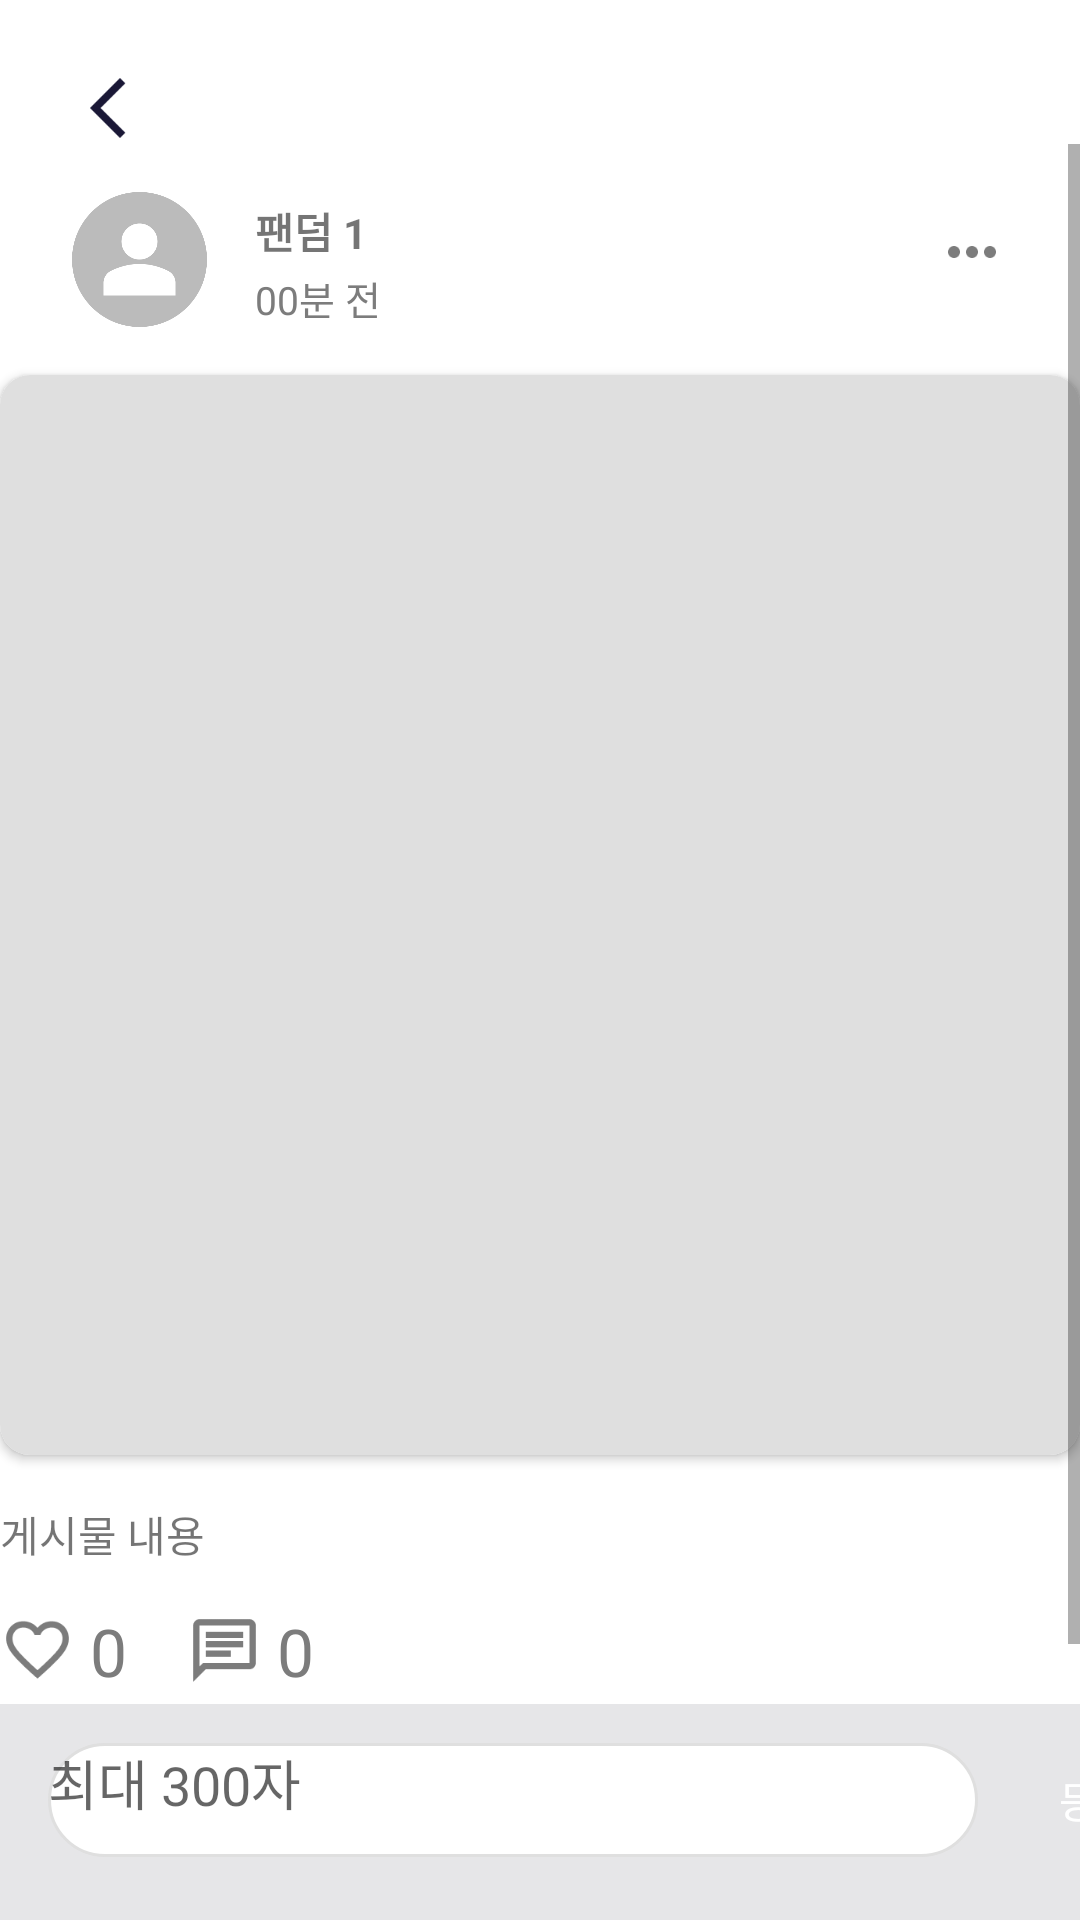

Point at icon controls on the screen. Image size 1080px x 1920px, points as [x,y].
back: [107,108]
comment: [224,1650]
heart off: [37,1650]
profile: [139,259]
